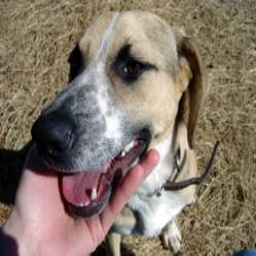dog: (27, 12, 214, 249)
